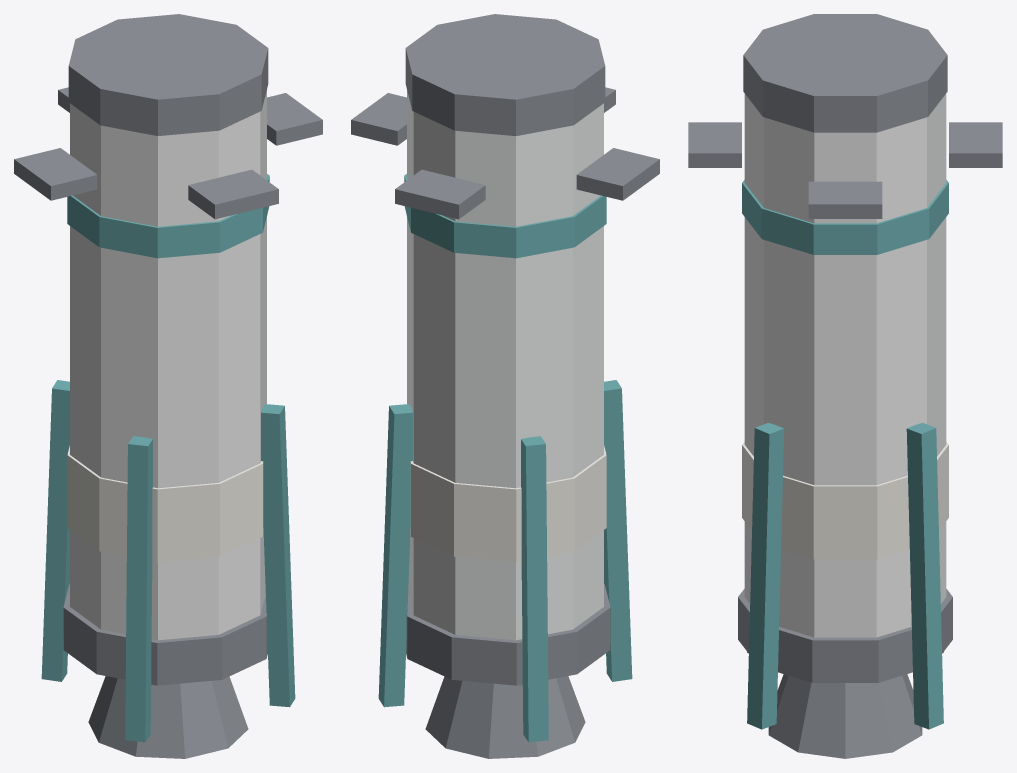
The model's file is booster.glb.
3 renders of one model, left to right at view 1: azimuth 30°, elevation 25°; view 2: azimuth 150°, elevation 25°; view 3: azimuth 270°, elevation 25°, orthographic.
Parts seen in each view (by area): view 1: booster; view 2: booster; view 3: booster.
Boxes of the visible parts, <box> form: booster: <box>14,14,322,758</box>; booster: <box>351,14,659,758</box>; booster: <box>688,14,1002,758</box>.
Size of the model in its own units: 0.4252 by 0.9995 by 0.4252.
